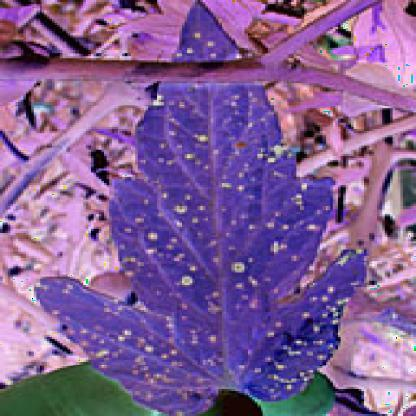Tomato Septoria leaf spot: (28, 4, 374, 408)
